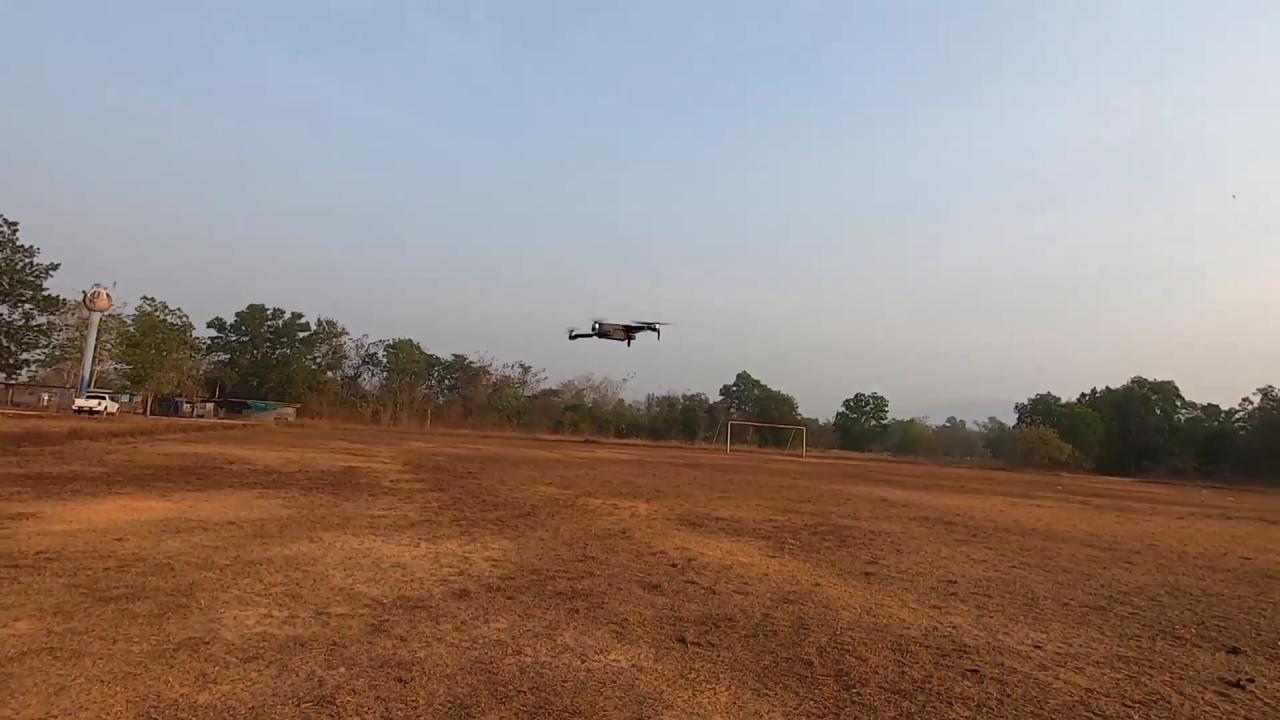Drone: (562, 300, 677, 359)
